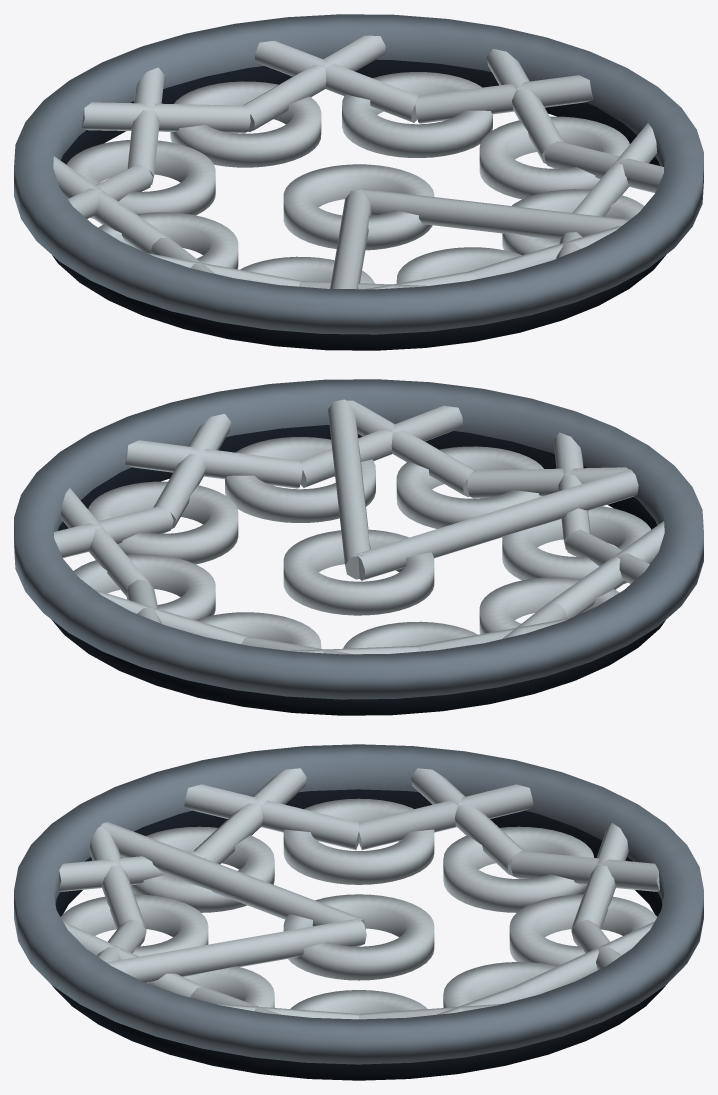
Rendered from falcon9_stage_1_engine_frame.glb.
The picture shows the model from 3 angles, top to bottom: view 1: azimuth 30°, elevation 25°; view 2: azimuth 150°, elevation 25°; view 3: azimuth 270°, elevation 25°; orthographic projection.
Parts seen in each view (by area): view 1: falcon9_stage_1_engine_frame.mesh_Satin_aluminum, falcon9_stage_1_engine_frame.mesh_Machined_steel, falcon9_stage_1_engine_frame.mesh_Shadowed_interior; view 2: falcon9_stage_1_engine_frame.mesh_Satin_aluminum, falcon9_stage_1_engine_frame.mesh_Machined_steel, falcon9_stage_1_engine_frame.mesh_Shadowed_interior; view 3: falcon9_stage_1_engine_frame.mesh_Satin_aluminum, falcon9_stage_1_engine_frame.mesh_Machined_steel, falcon9_stage_1_engine_frame.mesh_Shadowed_interior.
Part boxes in pixels (x1,y1,x2,y2): falcon9_stage_1_engine_frame.mesh_Satin_aluminum: [53, 35, 663, 289]; falcon9_stage_1_engine_frame.mesh_Machined_steel: [14, 14, 703, 334]; falcon9_stage_1_engine_frame.mesh_Shadowed_interior: [52, 59, 666, 350]; falcon9_stage_1_engine_frame.mesh_Satin_aluminum: [54, 399, 664, 654]; falcon9_stage_1_engine_frame.mesh_Machined_steel: [14, 379, 703, 699]; falcon9_stage_1_engine_frame.mesh_Shadowed_interior: [51, 425, 665, 715]; falcon9_stage_1_engine_frame.mesh_Satin_aluminum: [58, 768, 659, 1019]; falcon9_stage_1_engine_frame.mesh_Machined_steel: [14, 744, 703, 1064]; falcon9_stage_1_engine_frame.mesh_Shadowed_interior: [52, 789, 665, 1080].
Bounding box in the file's own units: 3.63 × 0.34 × 3.63.
